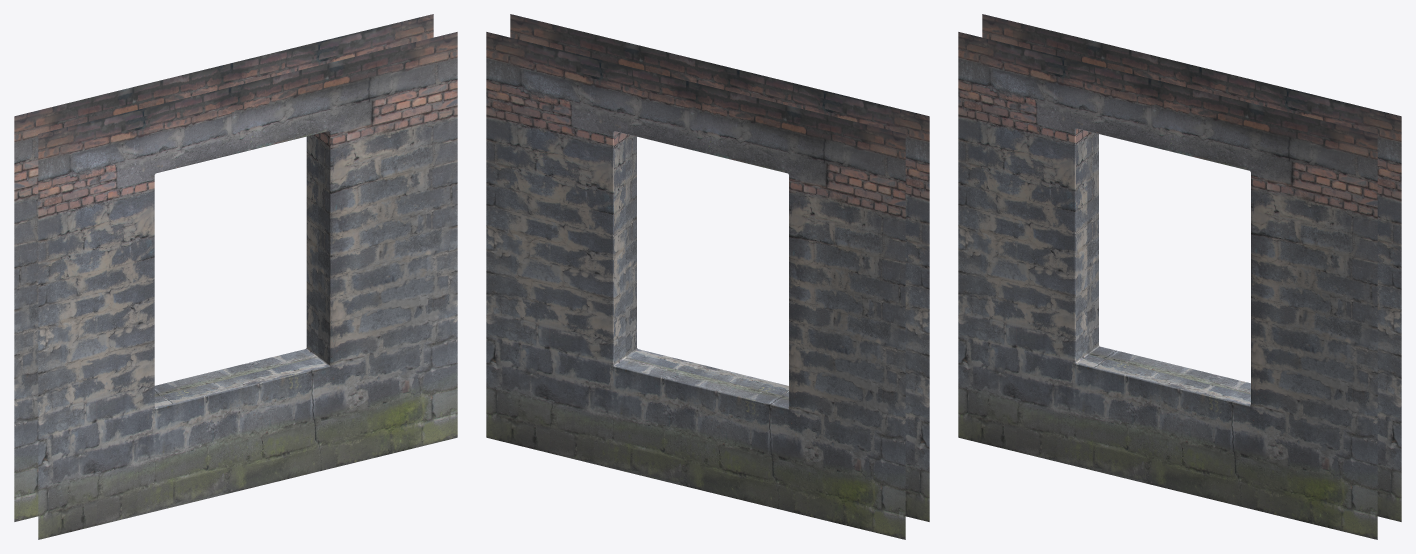
Rendered from sm_Wall_06_12.fbx.
The picture shows the model from 3 angles, left to right: view 1: azimuth 30°, elevation 25°; view 2: azimuth 150°, elevation 25°; view 3: azimuth 330°, elevation 25°; orthographic projection.
Parts seen in each view (by area): view 1: sm_Wall_06_12_LOD0; view 2: sm_Wall_06_12_LOD0; view 3: sm_Wall_06_12_LOD0.
Part boxes in pixels (x1,y1,x2,y2): sm_Wall_06_12_LOD0: (14,14,457,539); sm_Wall_06_12_LOD0: (486,14,929,539); sm_Wall_06_12_LOD0: (958,14,1401,539).
Bounding box in the file's own units: 40.31 × 400 × 370.
